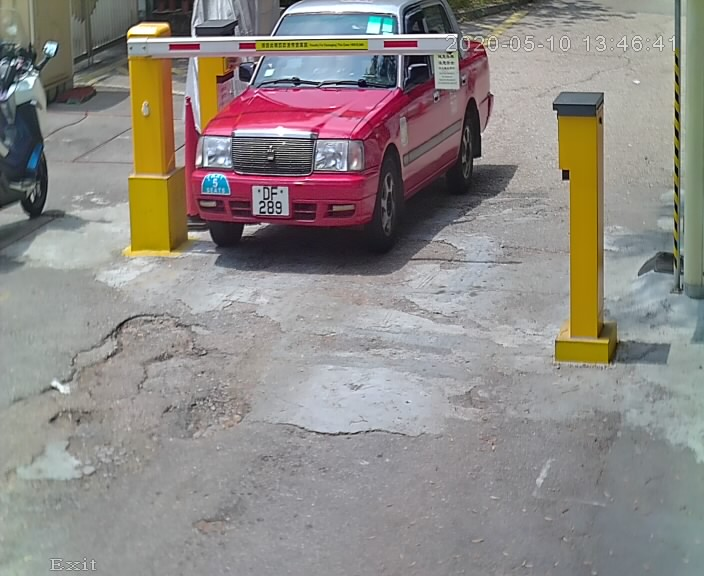taxi: (145, 2, 522, 280)
taxi_mark: (196, 162, 238, 202)
